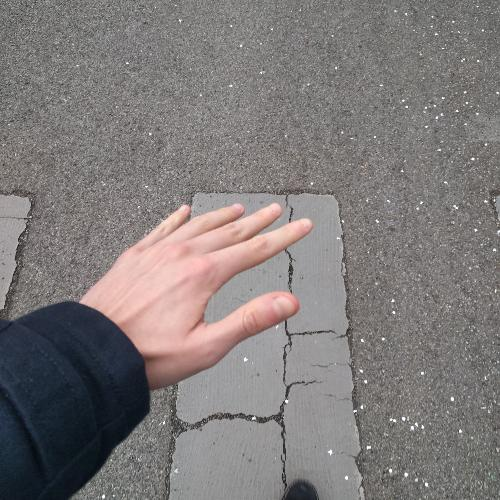paper: (78, 196, 319, 392)
